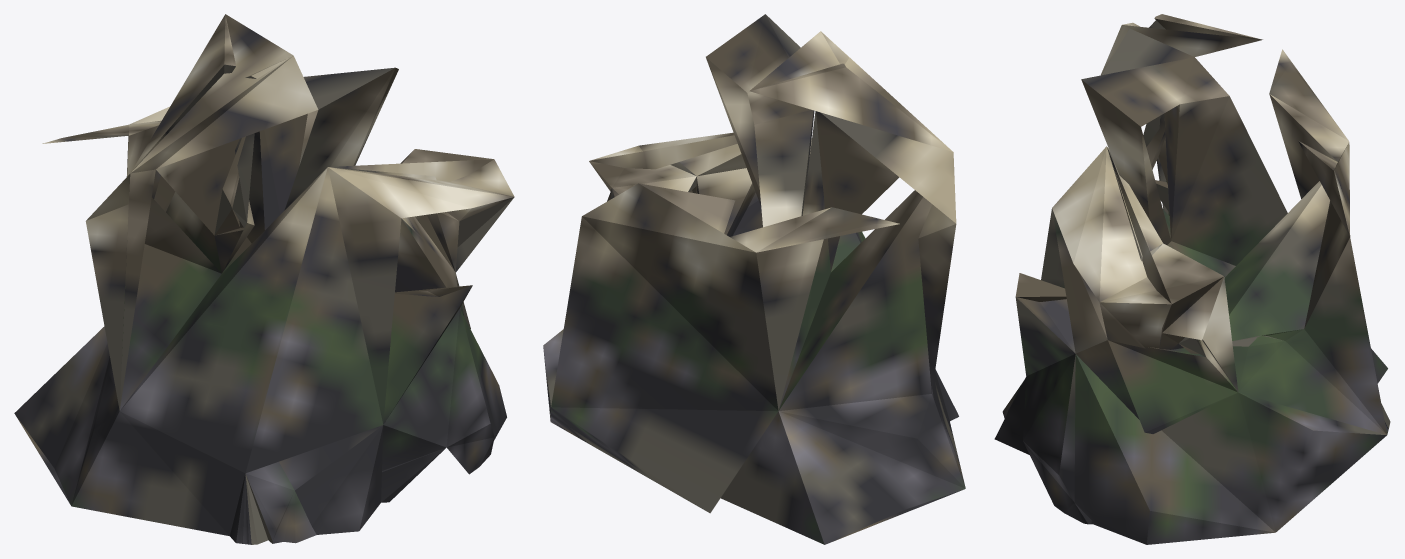
The model's file is SM_MeshyMushrooms.fbx.
3 views of the same model, side by side, from view 1: azimuth 30°, elevation 25°; view 2: azimuth 150°, elevation 25°; view 3: azimuth 270°, elevation 25° (orthographic). The views are drawn at different scales.
Visible parts, largest first — view 1: SM_MeshyMushrooms; view 2: SM_MeshyMushrooms; view 3: SM_MeshyMushrooms.
Boxes of the visible parts, bbox=[...] form: SM_MeshyMushrooms: bbox=[14, 14, 514, 544]; SM_MeshyMushrooms: bbox=[543, 14, 965, 544]; SM_MeshyMushrooms: bbox=[994, 14, 1390, 544].
Bounding box in the file's own units: 0.6605 × 0.6487 × 0.5614.
1 material, 1 textured.
